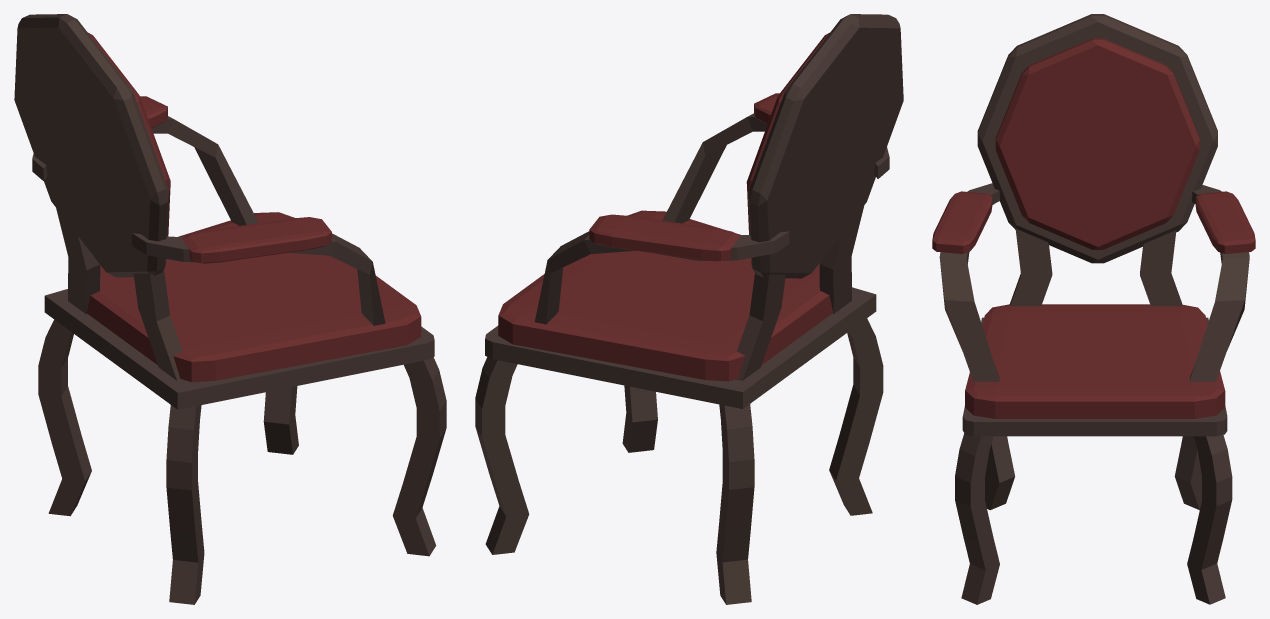
The model's file is ArmChair.fbx.
3 views of the same model, side by side, from view 1: azimuth 30°, elevation 25°; view 2: azimuth 150°, elevation 25°; view 3: azimuth 270°, elevation 25° (orthographic). The views are drawn at different scales.
Parts seen in each view (by area): view 1: Cube.007, topwood.003, Cube.015, Cube.011, Cube.014, Cube.012, Cube.016, arm1, arm1.001, Cube.010, Cube.009, Cube.013 (+1 smaller); view 2: Cube.007, topwood.003, Cube.015, Cube.012, Cube.013, Cube.011, Cube.017, arm1.001, arm1, Cube.009, Cube.010, Cube.014 (+1 smaller); view 3: topwood.002, Cube.007, topwood.003, Cube.013, Cube.014, Cube.015, arm1, arm1.001, Cube.016, Cube.017, Cube.010, Cube.009 (+2 smaller).
Boxes of the visible parts, x1=… form: Cube.007: x1=86, y1=212, x2=421, y2=382; topwood.003: x1=14, y1=14, x2=168, y2=277; Cube.015: x1=44, y1=289, x2=434, y2=409; Cube.011: x1=166, y1=405, x2=204, y2=604; Cube.014: x1=392, y1=357, x2=446, y2=556; Cube.012: x1=38, y1=319, x2=91, y2=516; Cube.016: x1=181, y1=217, x2=331, y2=263; arm1: x1=132, y1=233, x2=385, y2=326; arm1.001: x1=32, y1=116, x2=258, y2=225; Cube.010: x1=133, y1=270, x2=182, y2=380; Cube.009: x1=56, y1=208, x2=100, y2=314; Cube.013: x1=263, y1=386, x2=298, y2=454; Cube.007: x1=498, y1=210, x2=833, y2=381; topwood.003: x1=748, y1=14, x2=903, y2=278; Cube.015: x1=485, y1=287, x2=876, y2=408; Cube.012: x1=716, y1=404, x2=754, y2=604; Cube.013: x1=475, y1=357, x2=529, y2=554; Cube.011: x1=829, y1=318, x2=883, y2=515; Cube.017: x1=589, y1=214, x2=740, y2=261; arm1.001: x1=534, y1=231, x2=789, y2=324; arm1: x1=662, y1=113, x2=889, y2=223; Cube.009: x1=735, y1=273, x2=785, y2=380; Cube.010: x1=819, y1=206, x2=863, y2=313; Cube.014: x1=622, y1=385, x2=657, y2=452; topwood.002: x1=995, y1=38, x2=1199, y2=249; Cube.007: x1=965, y1=304, x2=1225, y2=418; topwood.003: x1=977, y1=14, x2=1217, y2=263; Cube.013: x1=1187, y1=435, x2=1232, y2=604; Cube.014: x1=955, y1=433, x2=999, y2=604; Cube.015: x1=962, y1=317, x2=1227, y2=436; arm1: x1=939, y1=183, x2=999, y2=381; arm1.001: x1=1189, y1=185, x2=1249, y2=381; Cube.016: x1=932, y1=191, x2=992, y2=253; Cube.017: x1=1195, y1=191, x2=1255, y2=253; Cube.010: x1=1010, y1=228, x2=1052, y2=306; Cube.009: x1=1140, y1=230, x2=1182, y2=306.
Bounding box in the file's own units: 245 × 409 × 257.
